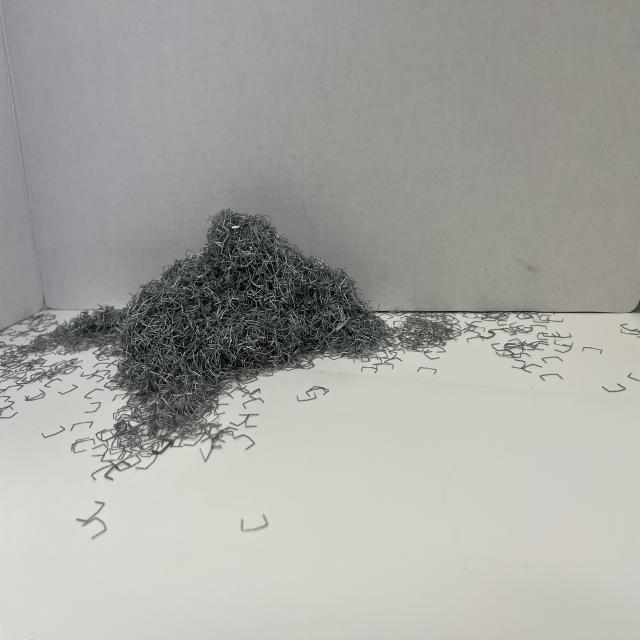staples: (110, 205, 392, 434)
